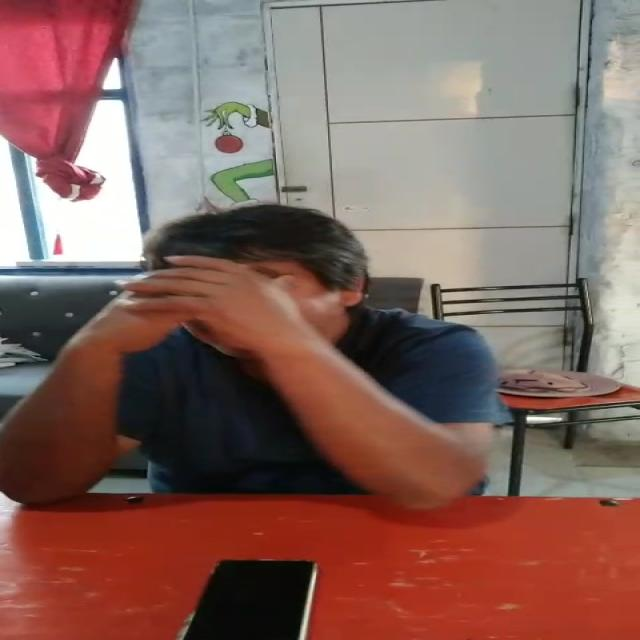7_mano_rostro: (142, 254, 305, 390)
